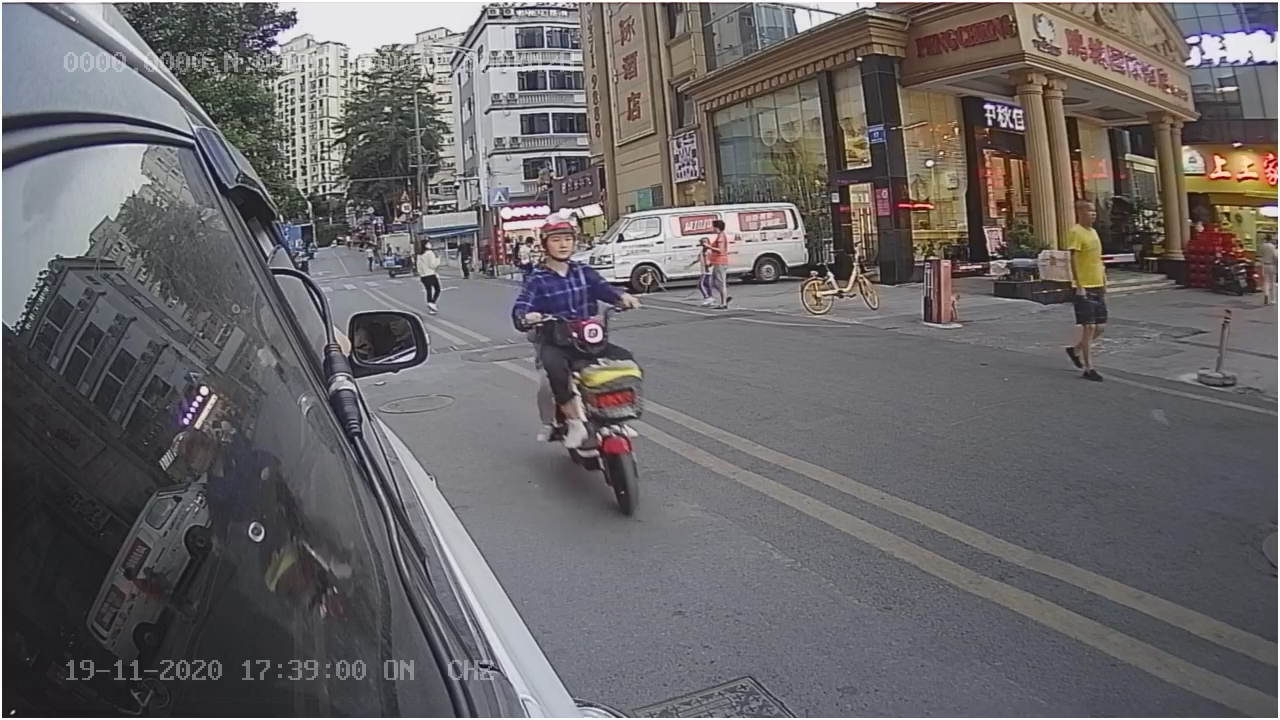person: (508, 215, 612, 361)
